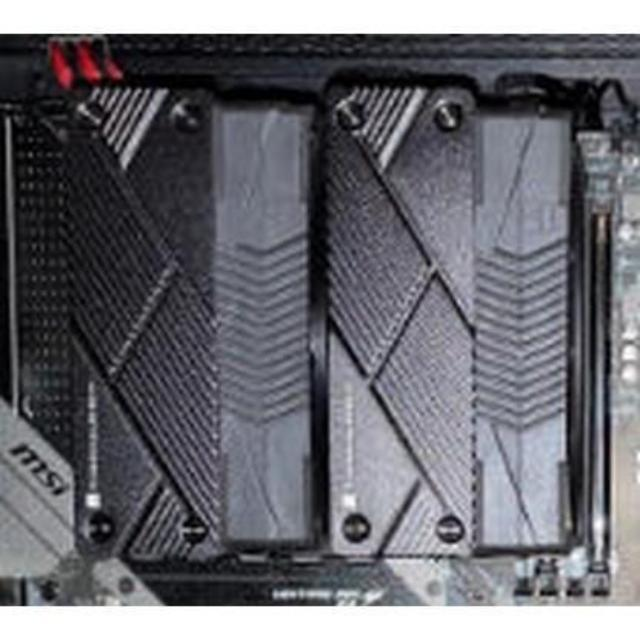CPU_Fan: (3, 70, 592, 568)
